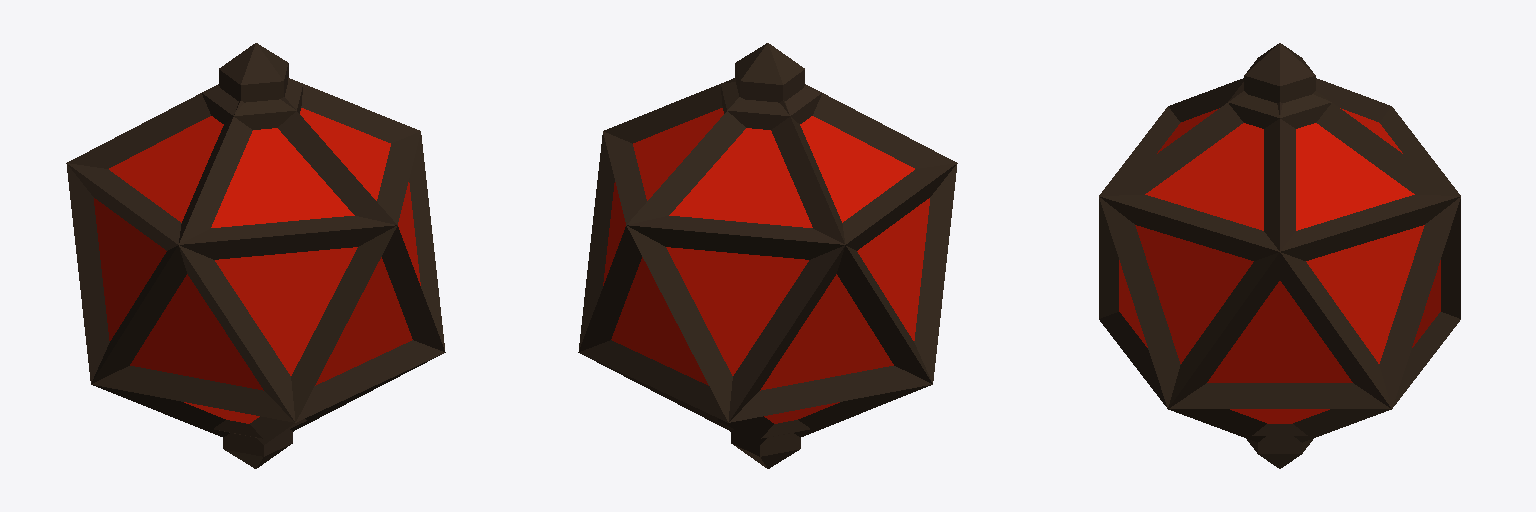
File: V1_Energy.obj
The picture shows the model from 3 angles: view 1: azimuth 30°, elevation 25°; view 2: azimuth 150°, elevation 25°; view 3: azimuth 270°, elevation 25°; orthographic projection.
Parts seen in each view (by area): view 1: Icosphere.001, Icosphere; view 2: Icosphere.001, Icosphere; view 3: Icosphere.001, Icosphere.
Part boxes in pixels (x1,y1,x2,y2): Icosphere.001: (66, 78, 445, 444); Icosphere: (94, 43, 420, 468); Icosphere.001: (578, 78, 957, 444); Icosphere: (603, 43, 929, 468); Icosphere.001: (1099, 78, 1460, 442); Icosphere: (1119, 43, 1440, 468).
Bounding box in the file's own units: 0.1349 × 0.1666 × 0.1283.